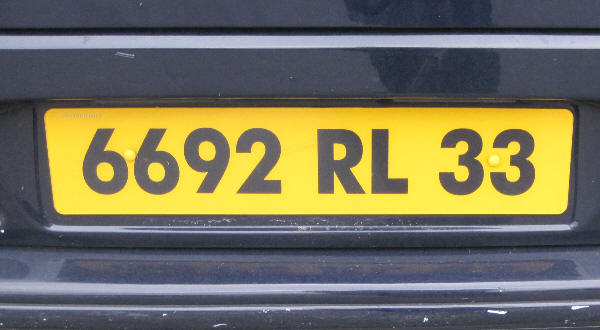license_plate: (43, 106, 575, 213)
